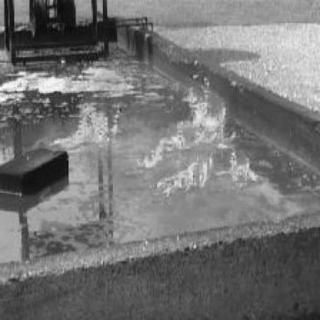Fire: (135, 83, 252, 197), (49, 90, 132, 152)
